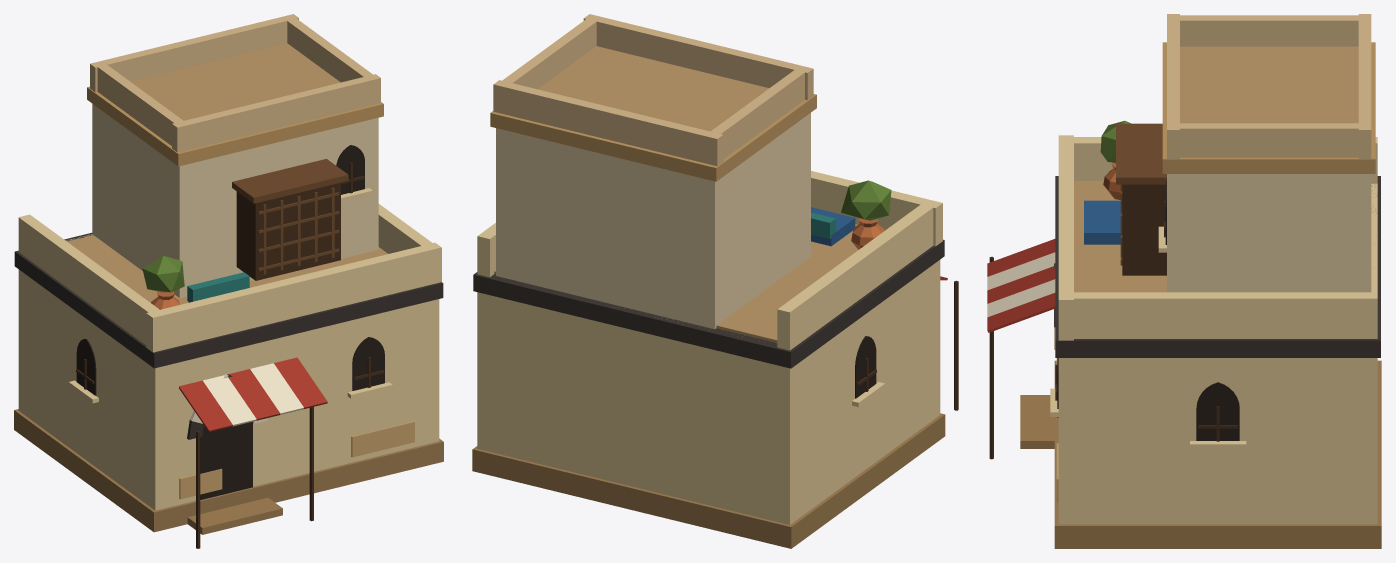
Rendered from desert_house_b.glb.
3 views of the same model, side by side, from view 1: azimuth 30°, elevation 25°; view 2: azimuth 150°, elevation 25°; view 3: azimuth 270°, elevation 25° (orthographic). The views are drawn at different scales.
Visible parts, largest first — view 1: desert_house_b; view 2: desert_house_b; view 3: desert_house_b.
Boxes of the visible parts, x1,y1,x2,y2 form: desert_house_b: (14,14,443,548); desert_house_b: (472,14,958,548); desert_house_b: (987,14,1381,548).
Bounding box in the file's own units: 6.26 × 7.1 × 6.17.
